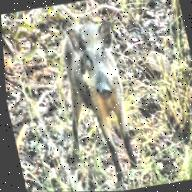boar: (41, 14, 150, 169)
